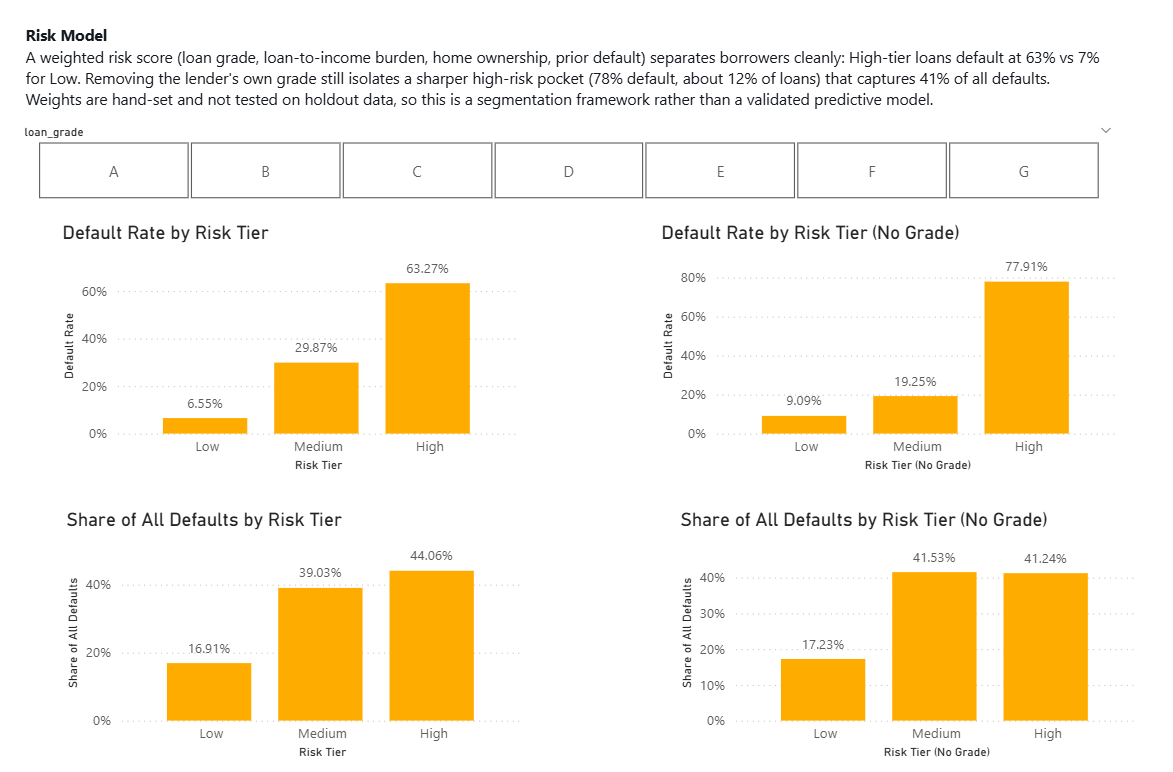

The dashboard page shown, as its layout file describes it:
{"tool":"powerbi","page":{"name":"Risk Model","canvas":[1280,720],"ordinal":1},"visuals":[{"type":"clusteredColumnChart","title":"Default Rate by Risk Tier","fields":{"Category":["credit_risk_dataset.Risk Tier"],"Y":["credit_risk_dataset.Default Rate"]},"box":[183.6,218.4,418.8,229.4],"z":0},{"type":"clusteredColumnChart","title":"Default Rate  by Risk Tier (No Grade)","fields":{"Category":["credit_risk_dataset.Risk Tier (No Grade)"],"Y":["credit_risk_dataset.Default Rate"]},"box":[719.8,218.4,418.8,229.4],"z":1000},{"type":"clusteredColumnChart","title":"Share of All Defaults by Risk Tier","fields":{"Category":["credit_risk_dataset.Risk Tier"],"Y":["credit_risk_dataset.Share of All Defaults"]},"box":[186.8,475.6,418.8,229.4],"z":2000},{"type":"textbox","box":[150.2,37.3,972.3,104.7],"z":3000},{"type":"clusteredColumnChart","title":"Share of All Defaults by Risk Tier (No Grade)","fields":{"Category":["credit_risk_dataset.Risk Tier (No Grade)"],"Y":["credit_risk_dataset.Share of All Defaults"]},"box":[736.6,475.6,418.8,229.4],"z":4000},{"type":"slicer","fields":{"Values":["credit_risk_dataset.loan_grade"]},"box":[141.1,127.5,998.9,78.4],"z":5000}]}

Visuals, with their boxes on the page's 1280x720 design canvas (x1, y1, x2, y2). These are canvas units, not pixel positions in the 1173x772 screenshot, which may show the page scaled, cropped or inside an application window:
"Default Rate by Risk Tier" clusteredColumnChart: crop(184, 218, 602, 448)
"Default Rate  by Risk Tier (No Grade)" clusteredColumnChart: crop(720, 218, 1139, 448)
"Share of All Defaults by Risk Tier" clusteredColumnChart: crop(187, 476, 606, 705)
textbox: crop(150, 37, 1122, 142)
"Share of All Defaults by Risk Tier (No Grade)" clusteredColumnChart: crop(737, 476, 1155, 705)
slicer - credit_risk_dataset.loan_grade: crop(141, 128, 1140, 206)
